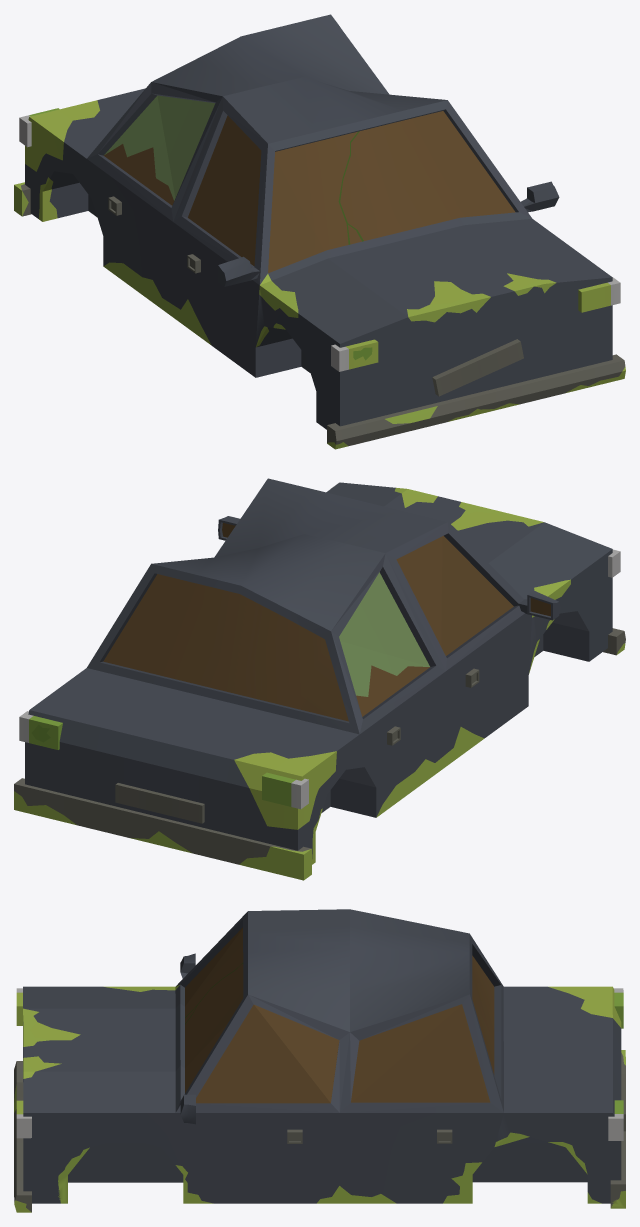
The model's file is Car_05.fbx.
3 views of the same model, one above another, from view 1: azimuth 30°, elevation 25°; view 2: azimuth 150°, elevation 25°; view 3: azimuth 270°, elevation 25° (orthographic). The views are drawn at different scales.
Parts seen in each view (by area): view 1: Car_05; view 2: Car_05; view 3: Car_05.
Boxes of the visible parts, bbox=[...] form: Car_05: bbox=[14, 14, 625, 449]; Car_05: bbox=[14, 478, 625, 880]; Car_05: bbox=[14, 909, 625, 1212].
Size of the model in its own units: 1.96 by 1.17 by 3.26.
